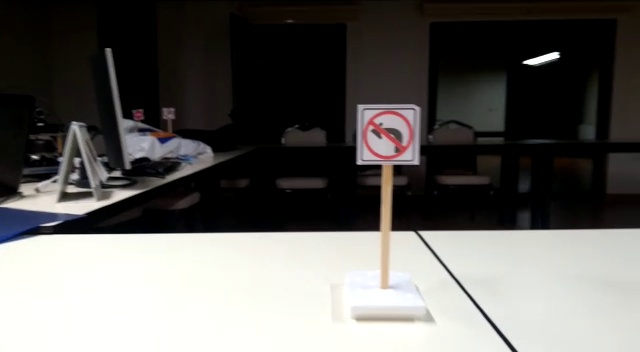sola_donulmez: (358, 105, 413, 164)
